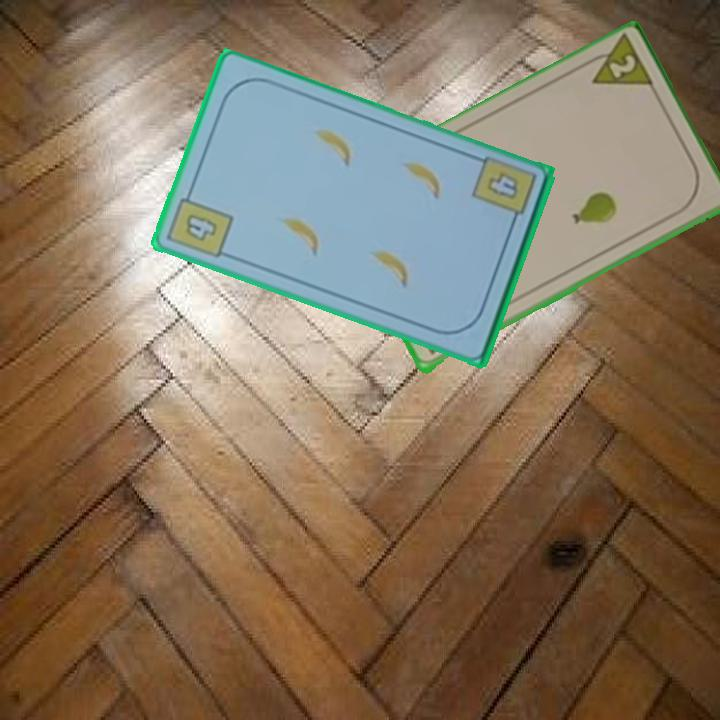2p: (578, 33, 658, 93)
4b: (163, 185, 237, 262), (482, 169, 521, 203)
